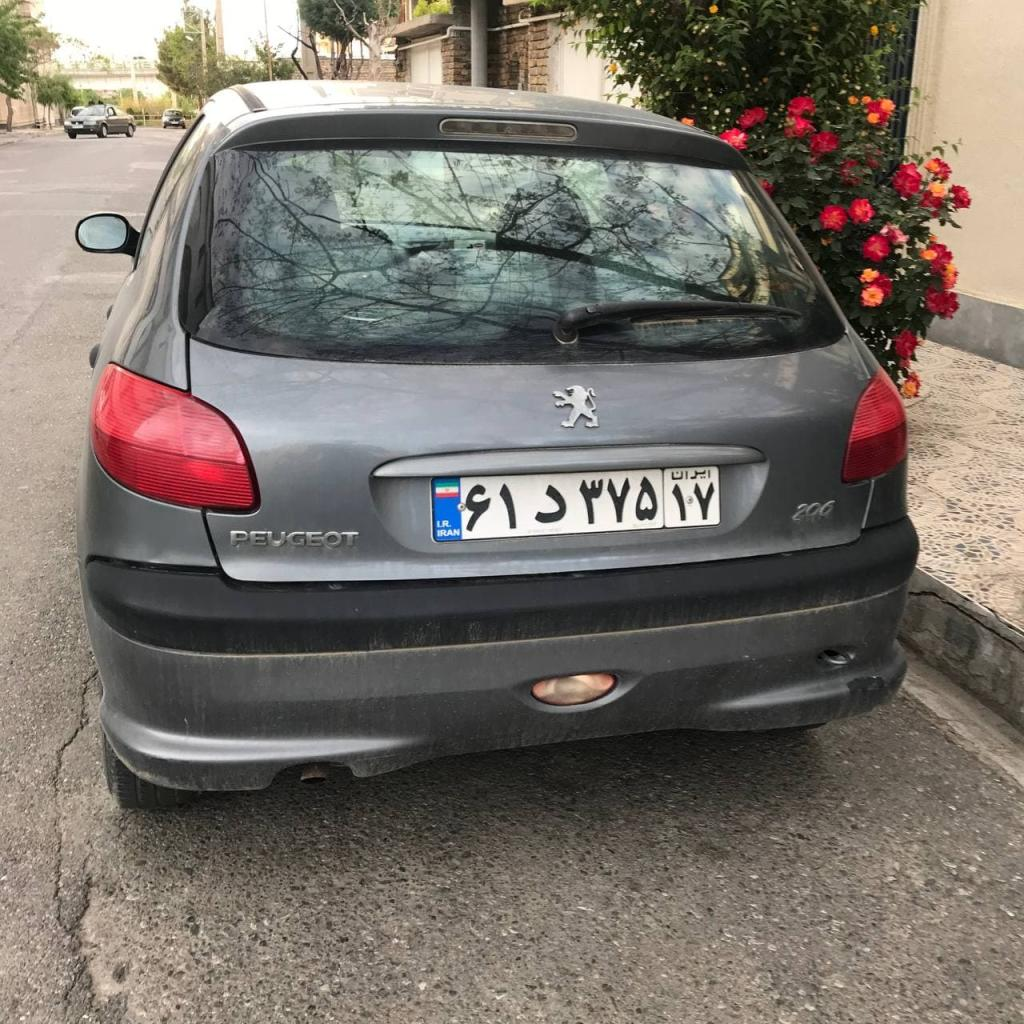Plates: (431, 466, 721, 541)
